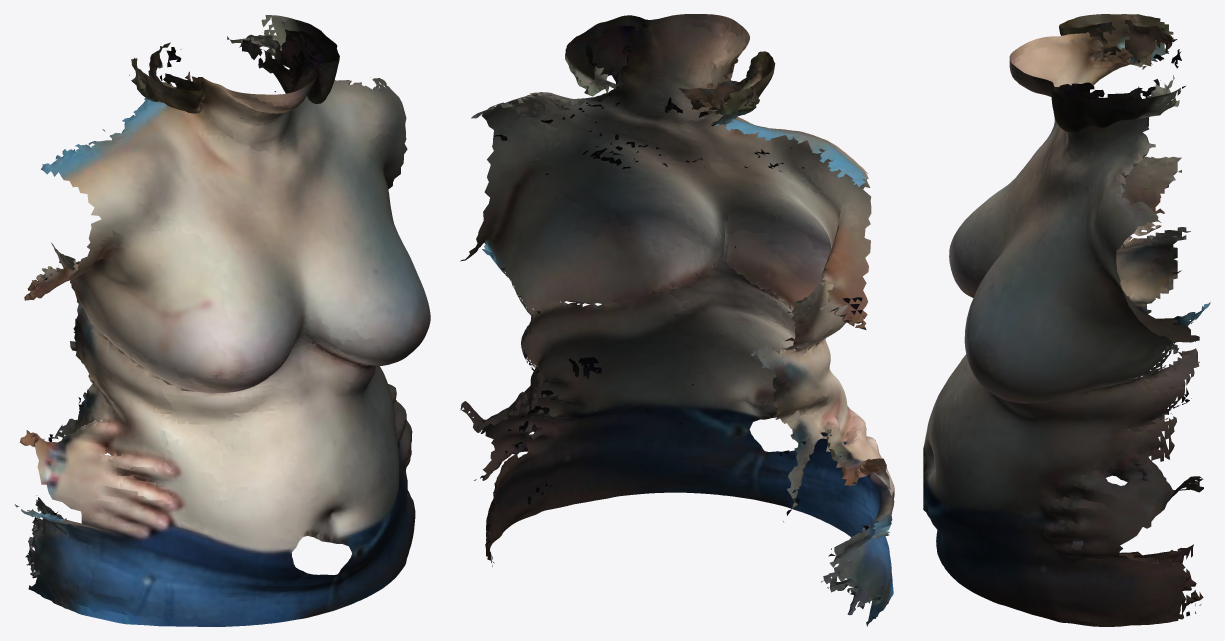
The model's file is CutTriModelRot.obj.
3 renders of one model, left to right at view 1: azimuth 30°, elevation 25°; view 2: azimuth 150°, elevation 25°; view 3: azimuth 270°, elevation 25°, orthographic. The views are drawn at different scales.
Size of the model in its own units: 0.4804 by 0.5816 by 0.3072.
Materials: 1 (1 with a texture image).
